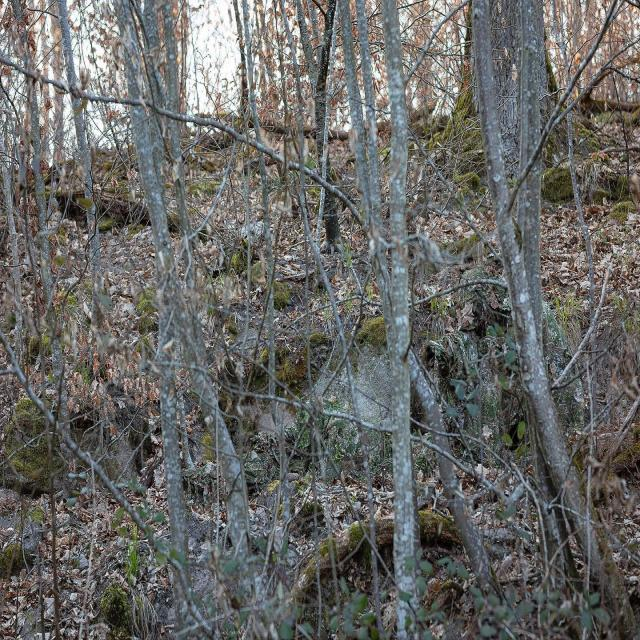Camouflage: (420, 256, 507, 334)
